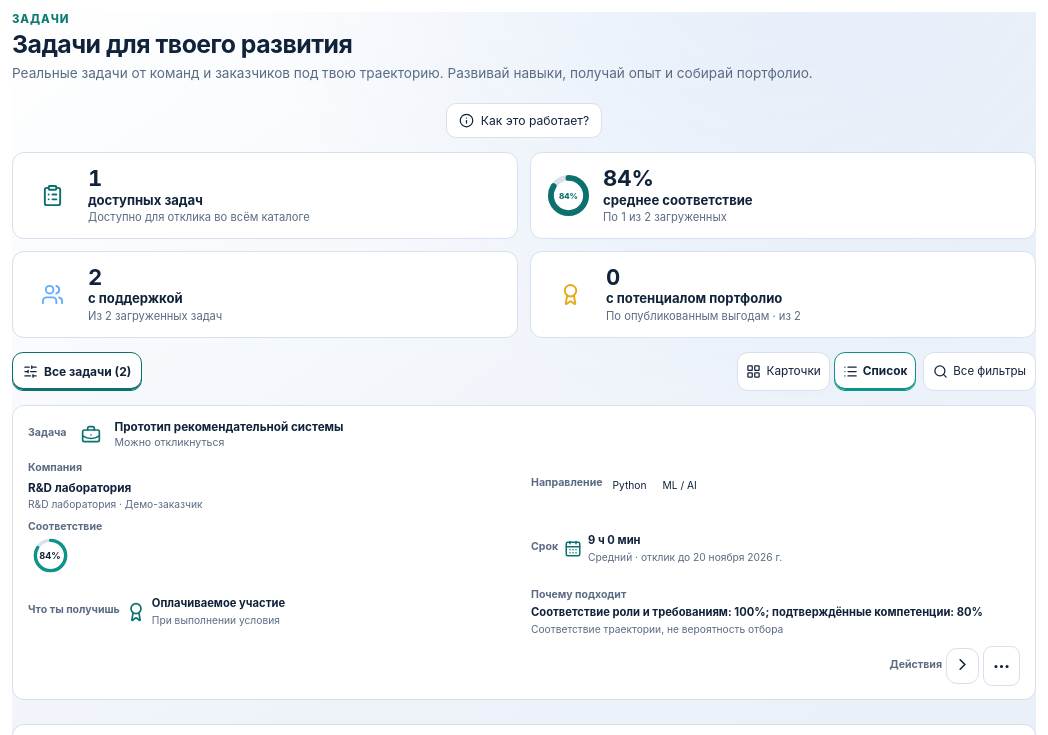
task catalog v2 › defaults to a list and still supports explicit card layout
expect the text "Прототип рекомендательной системы" is shown: met, box [114, 420, 344, 436]
Step 1. Click the button "Карточки" → (784, 371), box [738, 352, 830, 391]
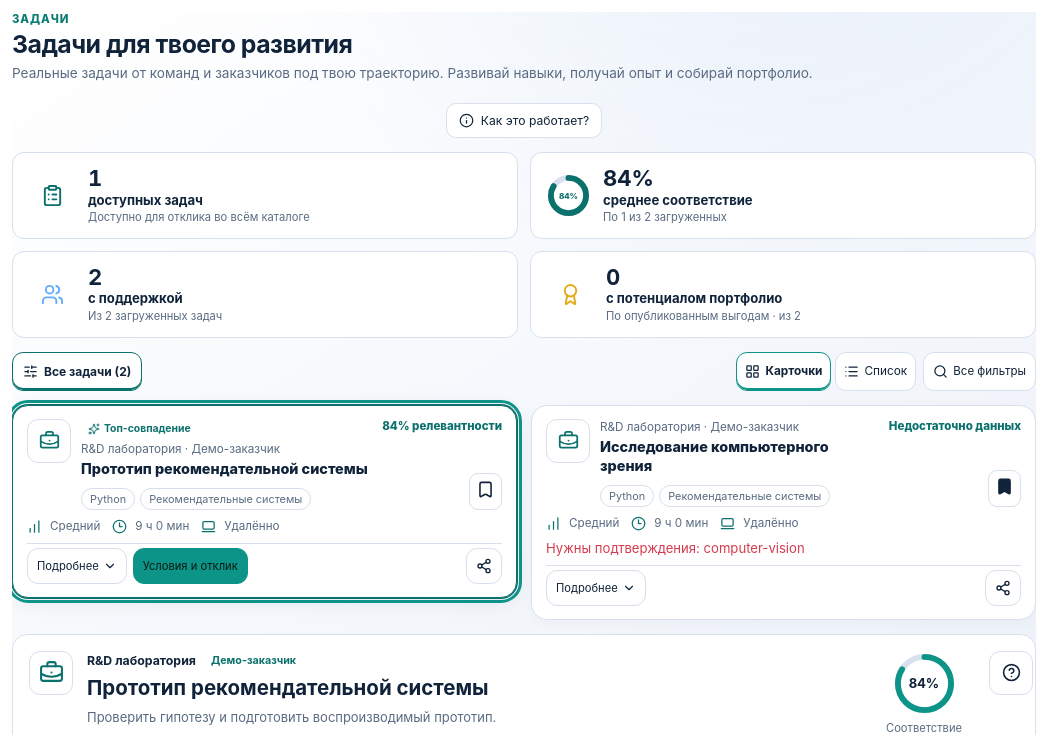
expect the list with class "catalog-v2-results--cards" is shown: met, box [12, 405, 1036, 620]
